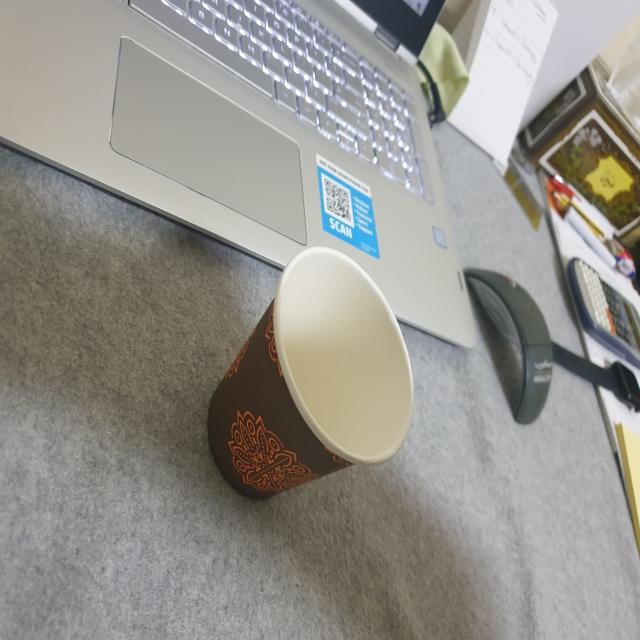cups: (196, 231, 421, 513)
